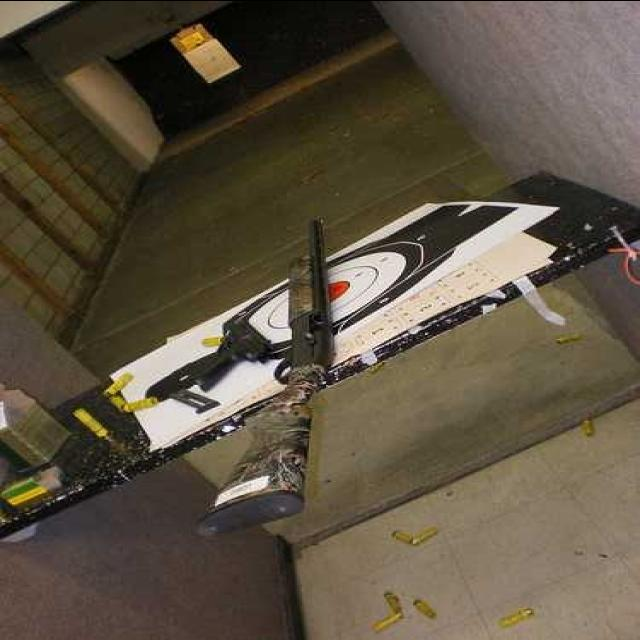heavyweapon: (131, 202, 382, 592)
